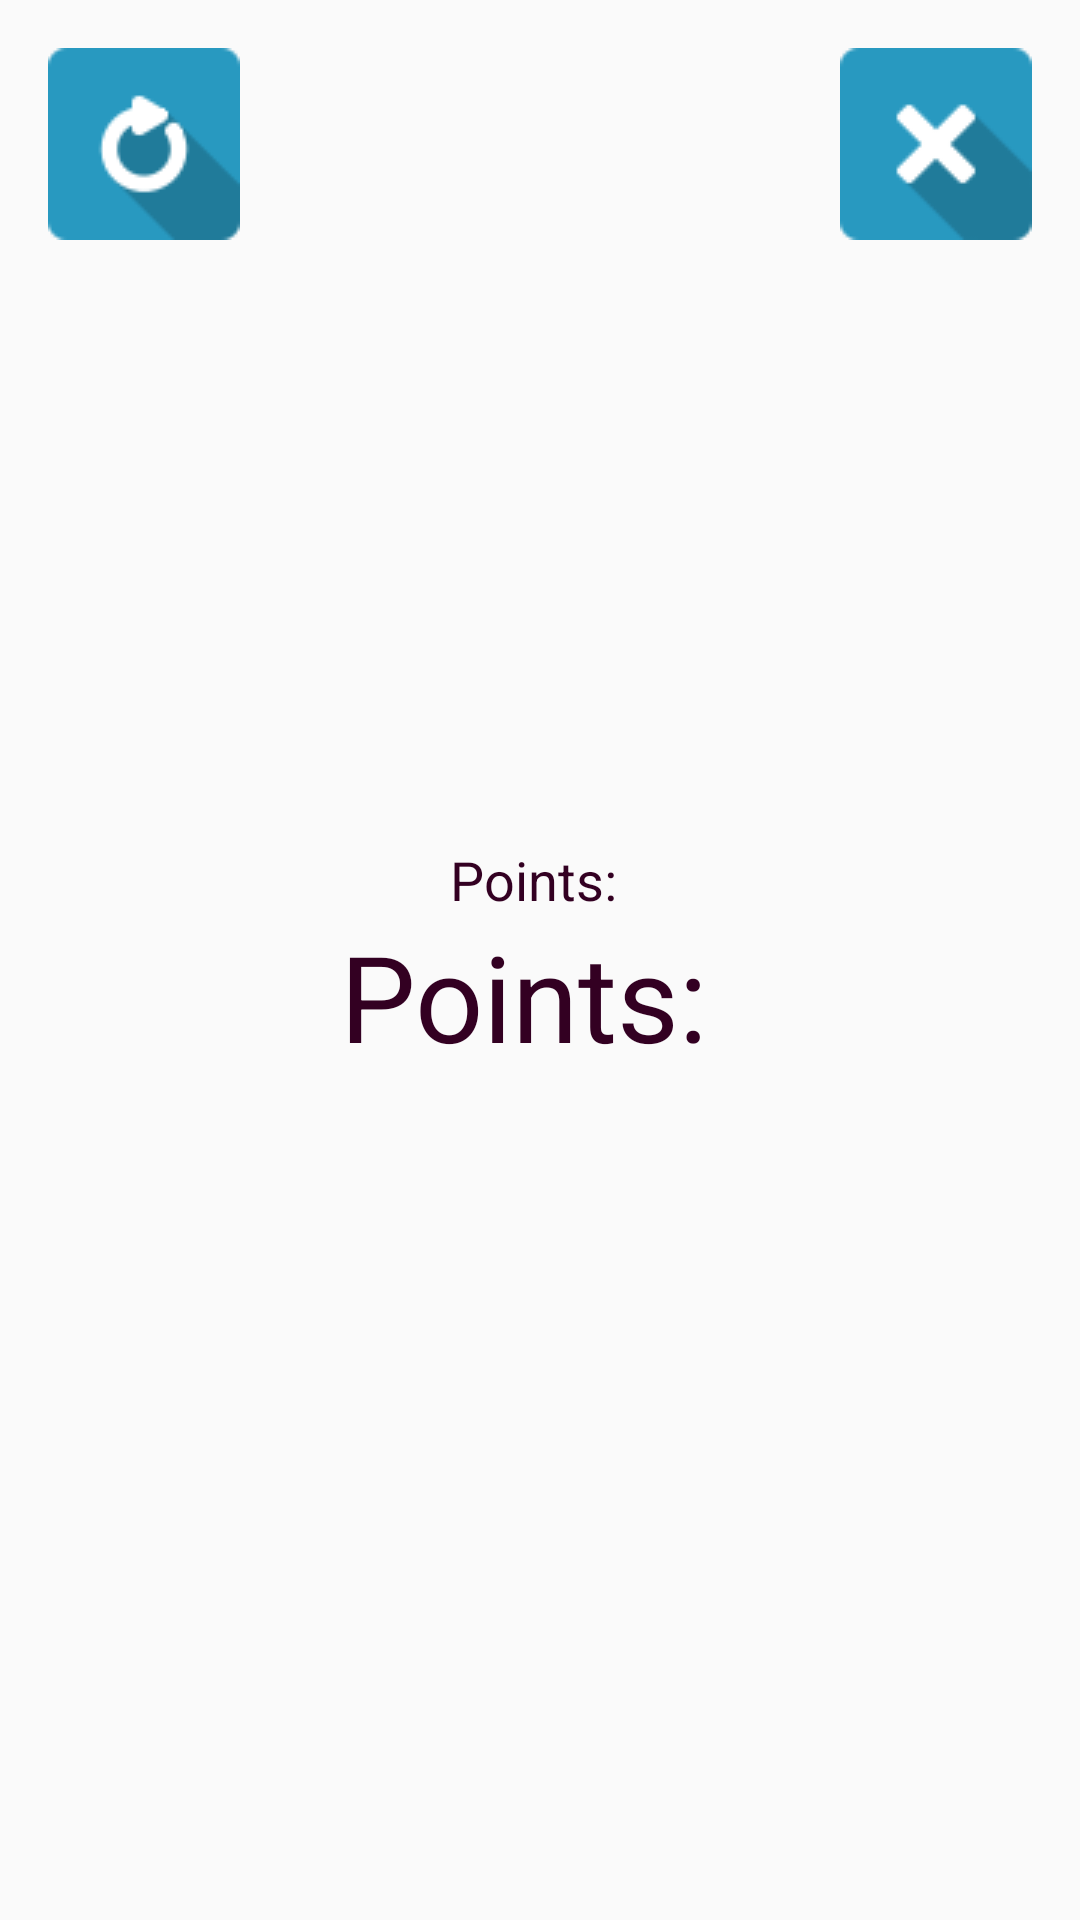

Screen size 1080px x 1920px. Icon name, then its box in pixels as (x1, y1, x2, y2):
exit: (840, 48, 1032, 240)
restart: (48, 48, 240, 240)
